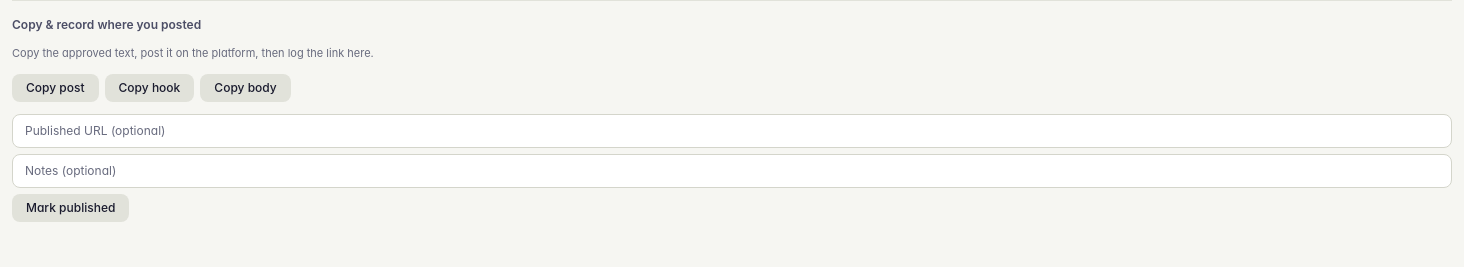
Test: PublishAssistant › records a manual publish and shows it in the log
Expected: the text "Copy & record where you posted" is shown, [12,17,201,32]
Type "https://linkedin.com/p/1" into the field labelled "Published URL".
click(732, 130); type("https://linkedin.com/p/1")  # box [12,114,1452,148]
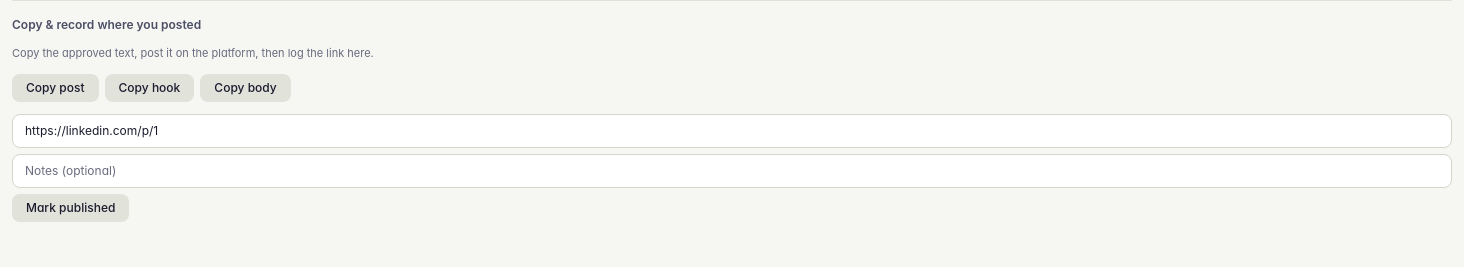
Click the button "Mark published".
click(71, 208)  # box [12,194,129,222]
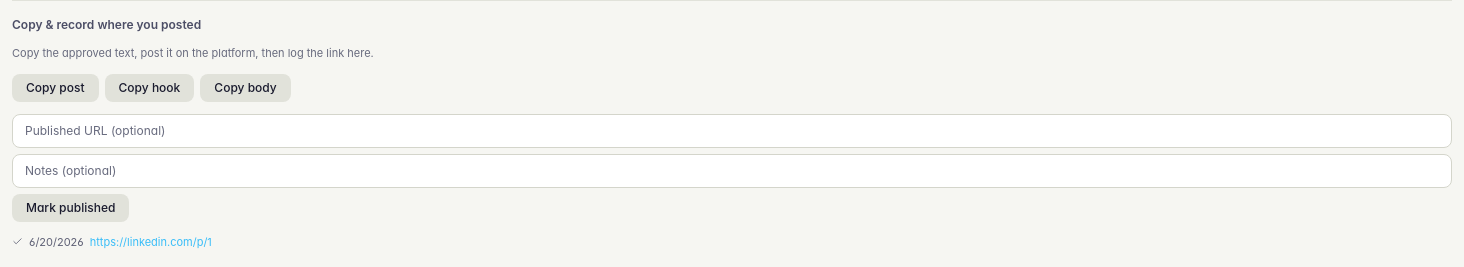
Expected: the list with test id "publish-log" is shown, [12,234,212,248]
Expected: the link "https://linkedin.com/p/1" is shown, [90,234,212,250]
